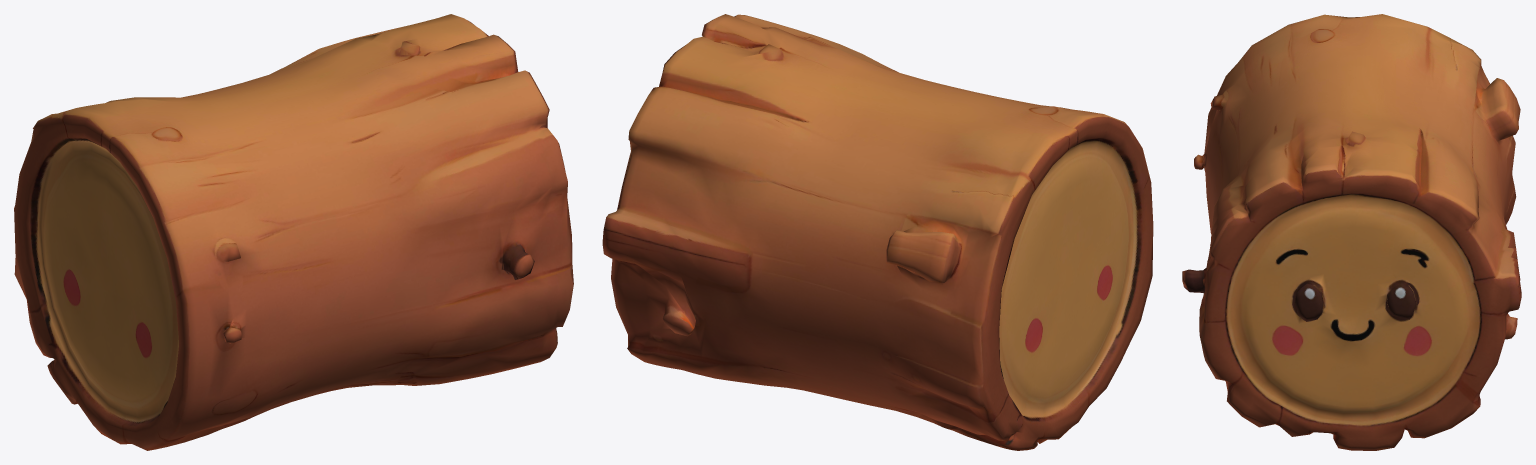
Rendered from tripo_convert_da9f6a0c-3bd4-46bd-91d8-82da6c51caab.fbx.
The picture shows the model from 3 angles, left to right: view 1: azimuth 30°, elevation 25°; view 2: azimuth 150°, elevation 25°; view 3: azimuth 270°, elevation 25°; orthographic projection. The views are drawn at different scales.
Visible parts, largest first — view 1: tripo_node_da9f6a0c; view 2: tripo_node_da9f6a0c; view 3: tripo_node_da9f6a0c.
Part boxes in pixels (x1,y1,x2,y2): tripo_node_da9f6a0c: (14, 14, 573, 450); tripo_node_da9f6a0c: (602, 14, 1153, 450); tripo_node_da9f6a0c: (1182, 14, 1521, 450).
Size of the model in its own units: 99.97 by 77.84 by 84.44.
Materials: 1 (1 with a texture image).
